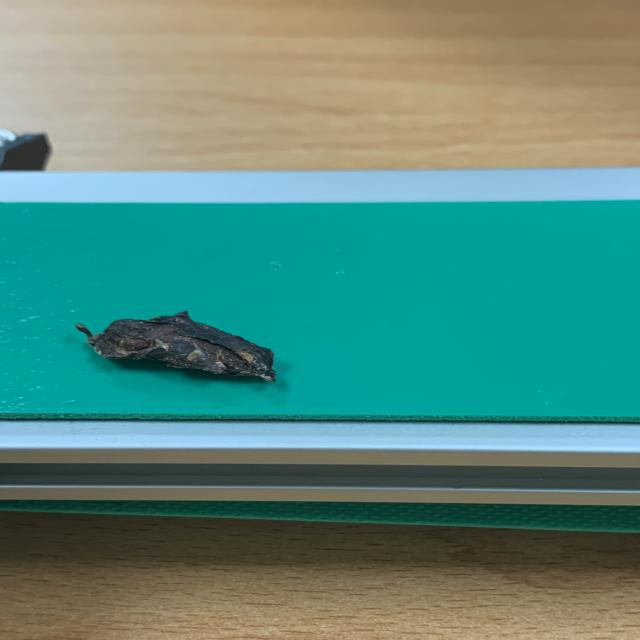Flat_cocoabeans: (25, 287, 372, 403)
